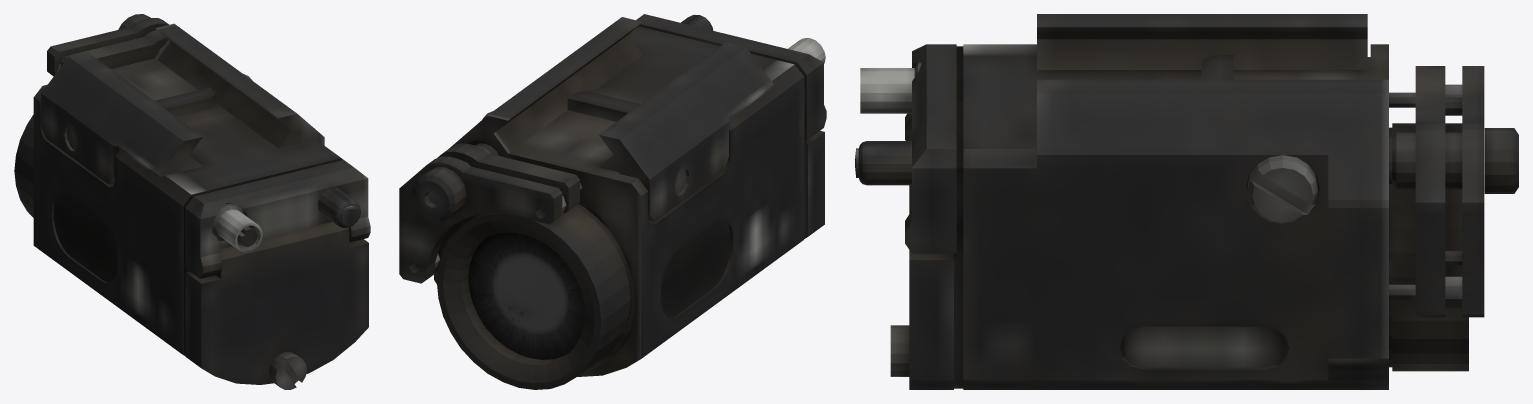
3 renders of one model, left to right at view 1: azimuth 30°, elevation 25°; view 2: azimuth 150°, elevation 25°; view 3: azimuth 270°, elevation 25°, orthographic. The views are drawn at different scales.
Parts seen in each view (by area): view 1: TW_5a5f1ce64f39f90b401987bc_PZ_Import; view 2: TW_5a5f1ce64f39f90b401987bc_PZ_Import; view 3: TW_5a5f1ce64f39f90b401987bc_PZ_Import.
Boxes of the visible parts, x1=… form: TW_5a5f1ce64f39f90b401987bc_PZ_Import: x1=14, y1=14, x2=370, y2=389; TW_5a5f1ce64f39f90b401987bc_PZ_Import: x1=399, y1=14, x2=826, y2=389; TW_5a5f1ce64f39f90b401987bc_PZ_Import: x1=855, y1=14, x2=1518, y2=389.
Size of the model in its own units: 0.0232 by 0.0493 by 0.0263.
1 material, 1 textured.
